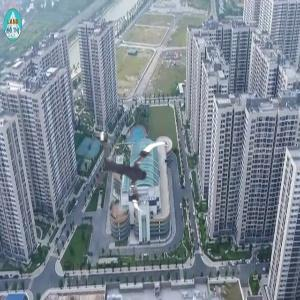drone: (91, 130, 177, 216)
